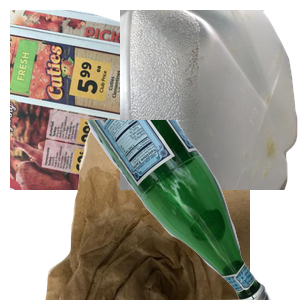glass: (75, 120, 300, 300)
paper: (10, 10, 250, 190)
plastic: (120, 10, 300, 190)
trash: (43, 120, 283, 300)
